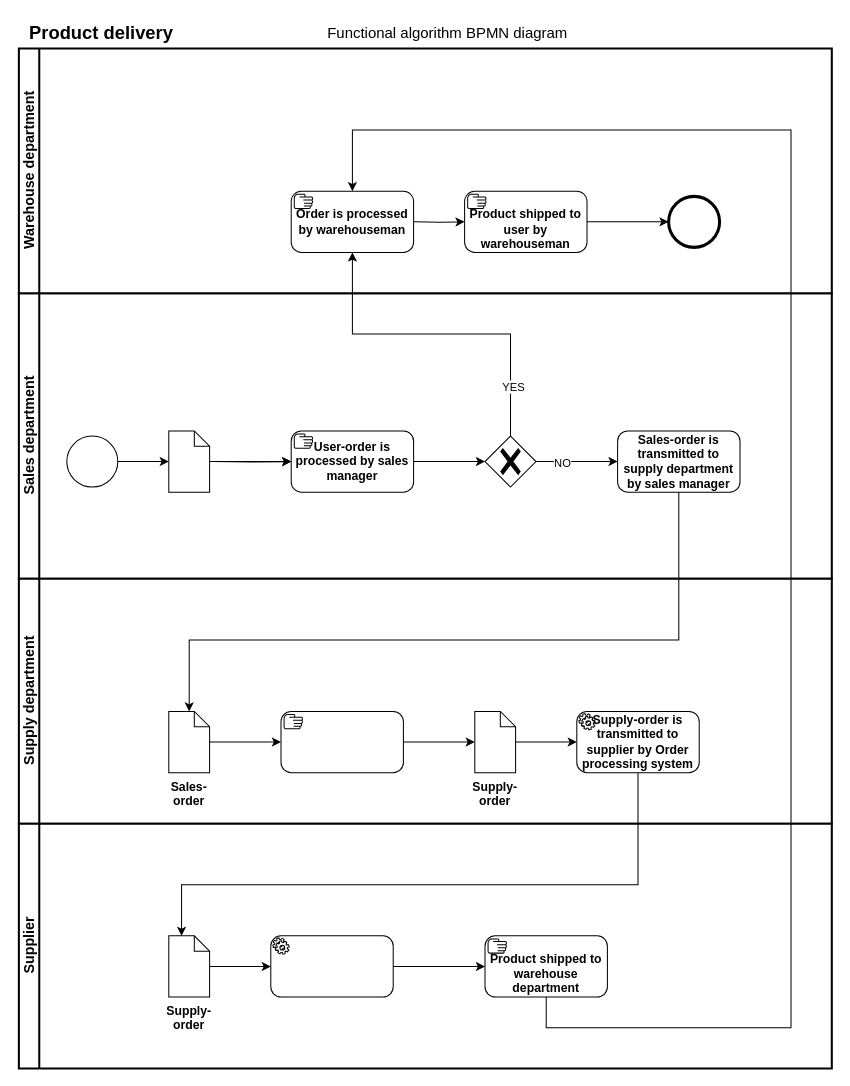
Image size: 850x1086. Some labels were removed from this diagram. Each missing label, with the centre of its shape:
"Order" goes at (189,461).
"Order received" goes at (694,221).
"Product in stock" goes at (510,461).
"Sales-order is processed by sales manager" goes at (341,741).
"Supplier system" goes at (331,966).
"User-order placement" goes at (92,461).
